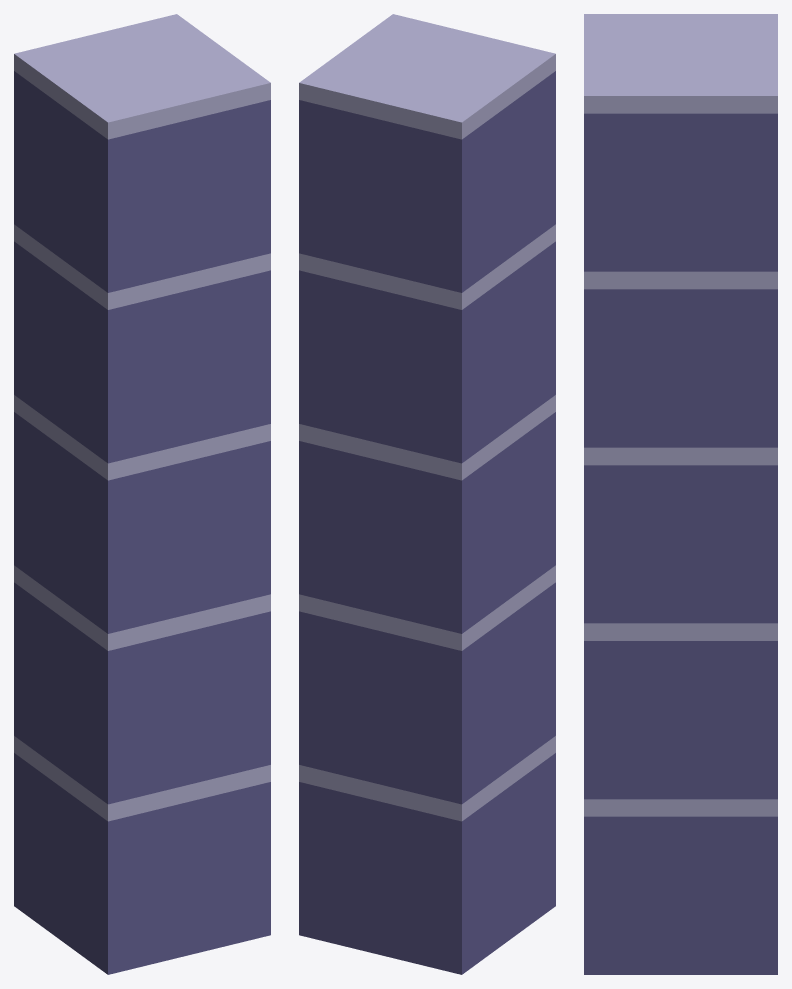
File: wall.glb
3 renders of one model, left to right at view 1: azimuth 30°, elevation 25°; view 2: azimuth 150°, elevation 25°; view 3: azimuth 270°, elevation 25°, orthographic. The views are drawn at different scales.
Parts seen in each view (by area): view 1: mergedBlocks(Clone); view 2: mergedBlocks(Clone); view 3: mergedBlocks(Clone).
Boxes of the visible parts, x1,y1,x2,y2 form: mergedBlocks(Clone): (14, 14, 270, 974); mergedBlocks(Clone): (299, 14, 555, 974); mergedBlocks(Clone): (584, 14, 777, 974).
Bounding box in the file's own units: 1 × 5 × 1.
